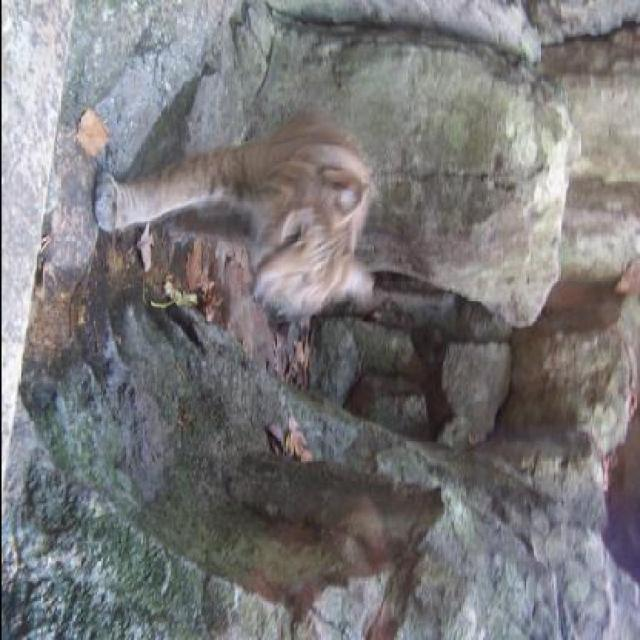Lion: (2, 43, 400, 348)
